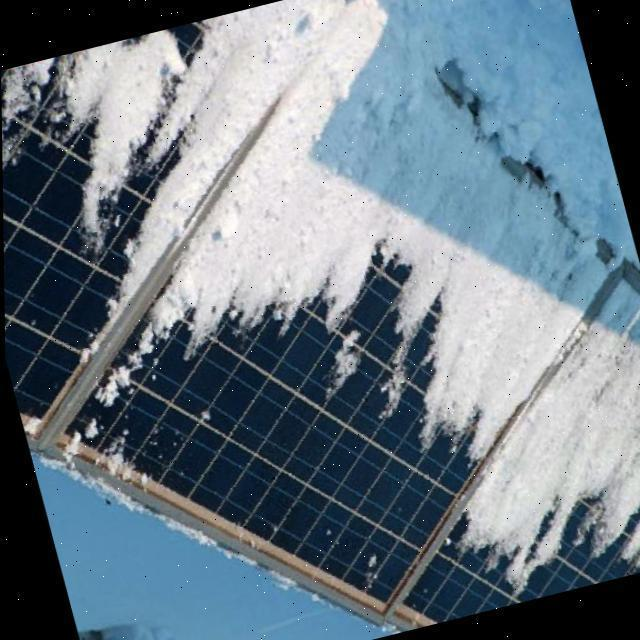Anomaly Solar Panel: (44, 0, 640, 613), (1, 0, 377, 432), (391, 266, 640, 626)
Snow: (1, 0, 640, 603)
